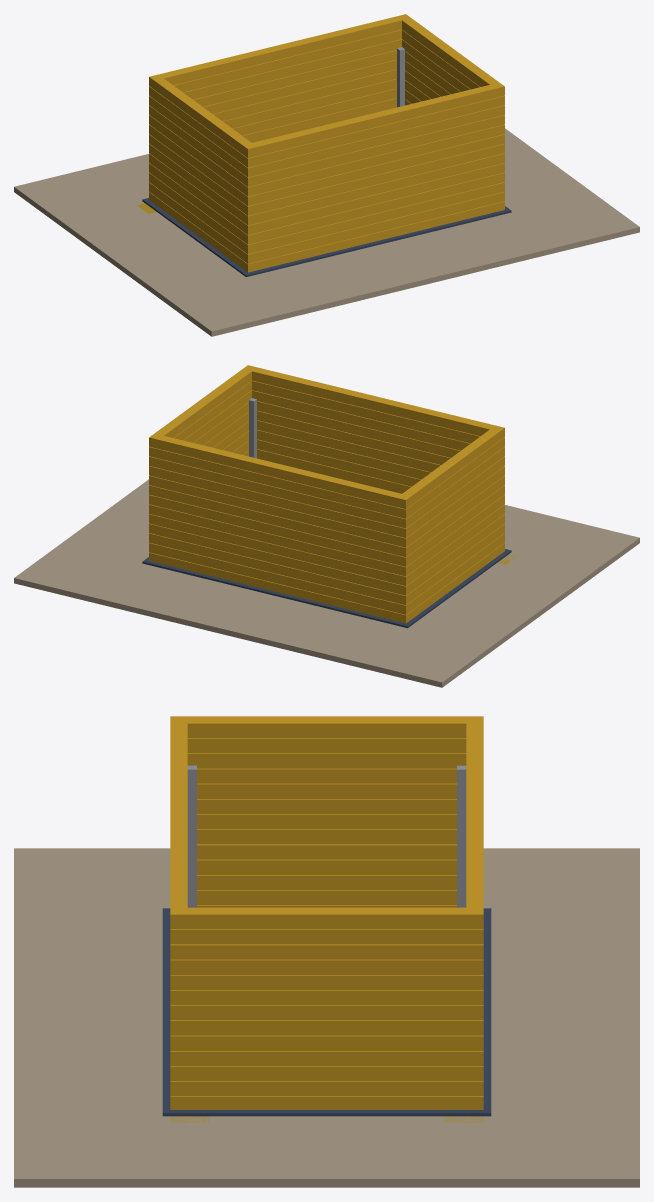
File: stage_04_walls.glb
The picture shows the model from 3 angles, top to bottom: view 1: azimuth 30°, elevation 25°; view 2: azimuth 150°, elevation 25°; view 3: azimuth 270°, elevation 25°; orthographic projection. The views are drawn at different scales.
Visible parts, largest first — view 1: world; view 2: world; view 3: world.
Boxes of the visible parts, box(x1,y1,x2,y2) form: world: box(14, 14, 639, 336); world: box(14, 365, 639, 687); world: box(14, 716, 639, 1187).
Bounding box in the file's own units: 10 × 3.6 × 8.
